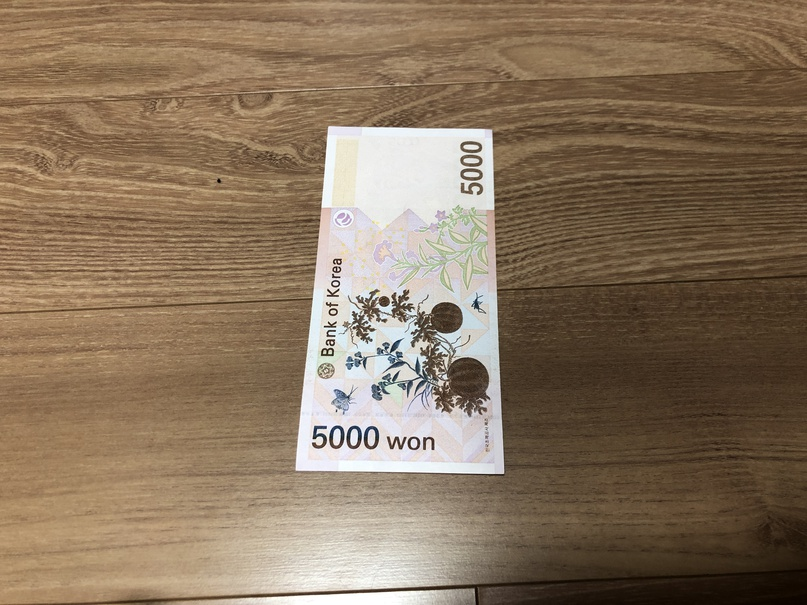5000won: (295, 126, 506, 475)
